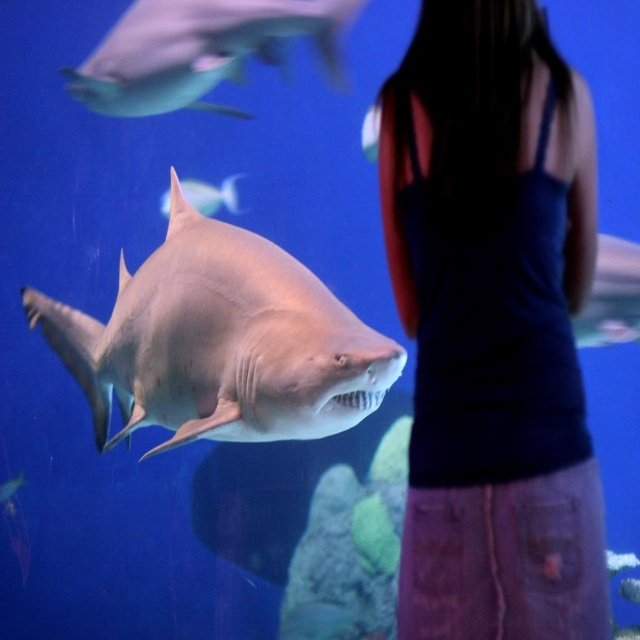Shark: (19, 161, 408, 466), (53, 0, 373, 128)
